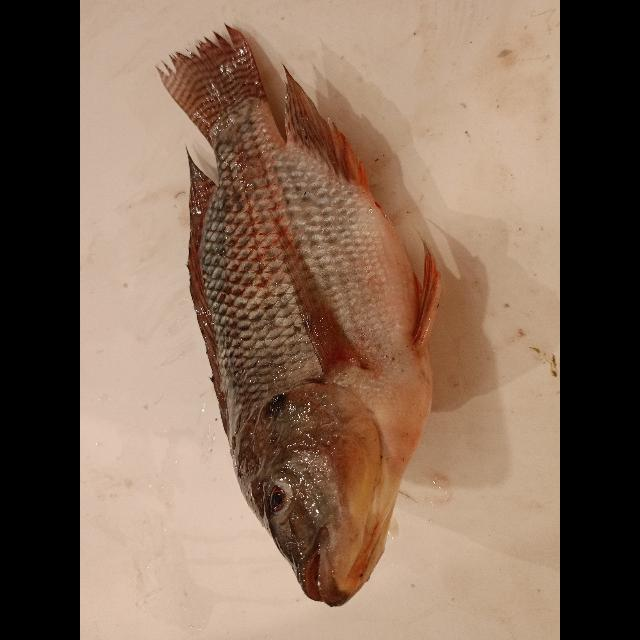Tilapia: (157, 21, 439, 606)
